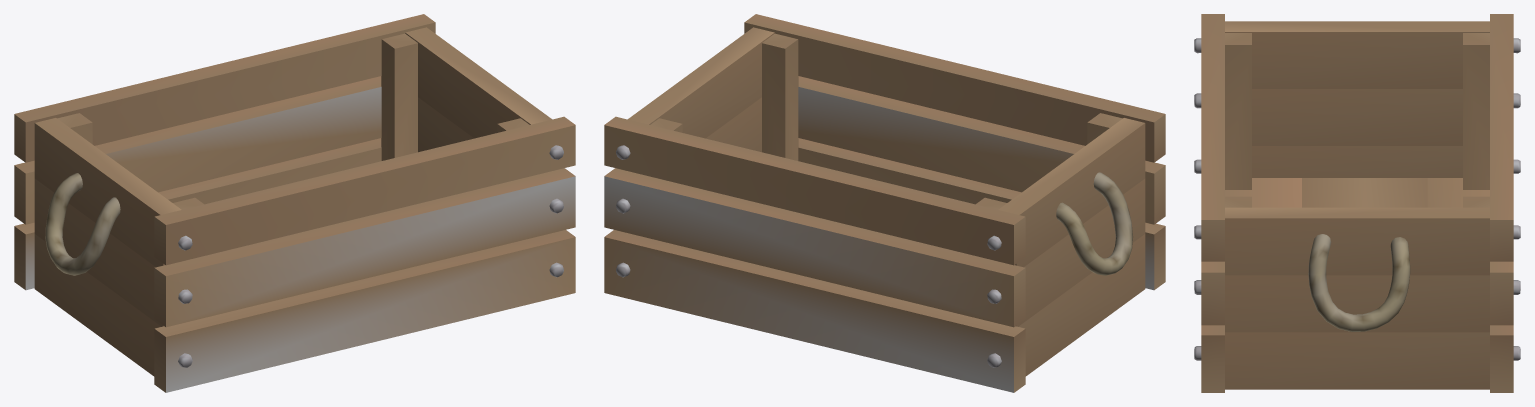
Rendered from FarmCrate_Empty.glb.
3 renders of one model, left to right at view 1: azimuth 30°, elevation 25°; view 2: azimuth 150°, elevation 25°; view 3: azimuth 270°, elevation 25°, orthographic. The views are drawn at different scales.
Visible parts, largest first — view 1: FarmCrate_Empty_c804bd, FarmCrate_Empty_7aaa7d; view 2: FarmCrate_Empty_c804bd, FarmCrate_Empty_7aaa7d; view 3: FarmCrate_Empty_c804bd, FarmCrate_Empty_7aaa7d.
Part boxes in pixels (x1=…): FarmCrate_Empty_c804bd: x1=14, y1=14, x2=575, y2=392; FarmCrate_Empty_7aaa7d: x1=178, y1=145, x2=563, y2=367; FarmCrate_Empty_c804bd: x1=604, y1=14, x2=1165, y2=392; FarmCrate_Empty_7aaa7d: x1=616, y1=145, x2=1001, y2=367; FarmCrate_Empty_c804bd: x1=1201, y1=14, x2=1513, y2=392; FarmCrate_Empty_7aaa7d: x1=1194, y1=38, x2=1520, y2=360.
Bounding box in the file's own units: 0.7138 × 0.2438 × 0.4142.
